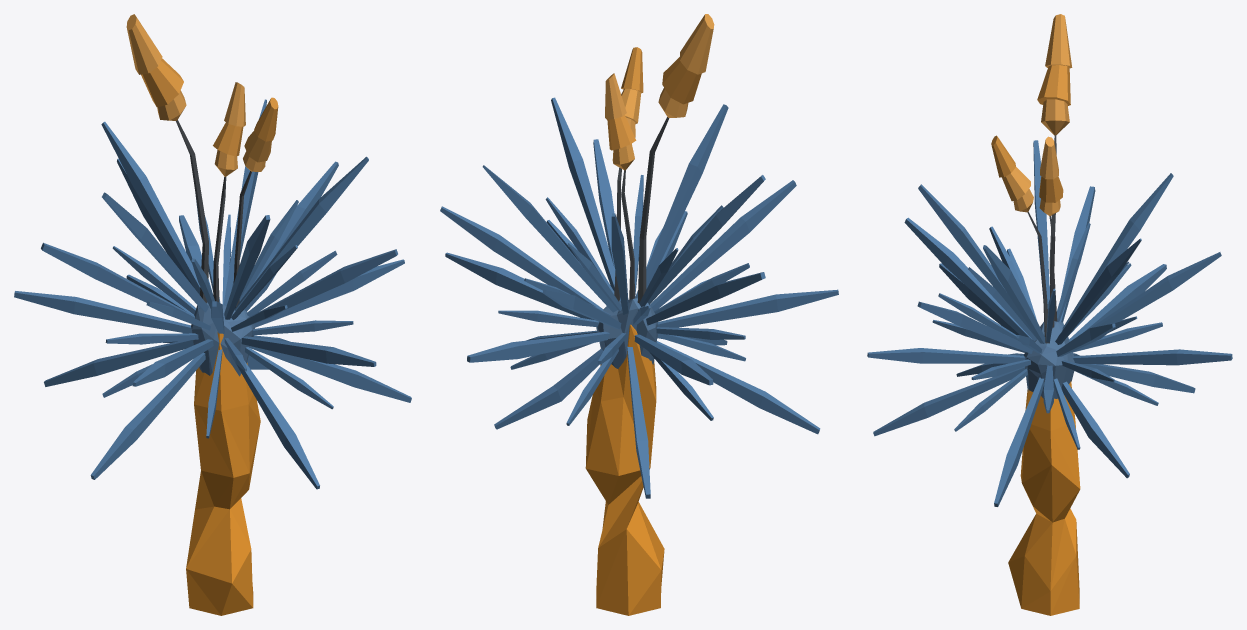
File: AW_Plant01.fbx
The picture shows the model from 3 angles, left to right: view 1: azimuth 30°, elevation 25°; view 2: azimuth 150°, elevation 25°; view 3: azimuth 270°, elevation 25°; orthographic projection. The views are drawn at different scales.
Parts seen in each view (by area): view 1: AW_Plant01; view 2: AW_Plant01; view 3: AW_Plant01.
Boxes of the visible parts, x1=… form: AW_Plant01: x1=14, y1=14, x2=411, y2=615; AW_Plant01: x1=440, y1=14, x2=838, y2=615; AW_Plant01: x1=867, y1=14, x2=1232, y2=615.
Bounding box in the file's own units: 61.21 × 103 × 61.97.
Materials: 1 (1 with a texture image).
